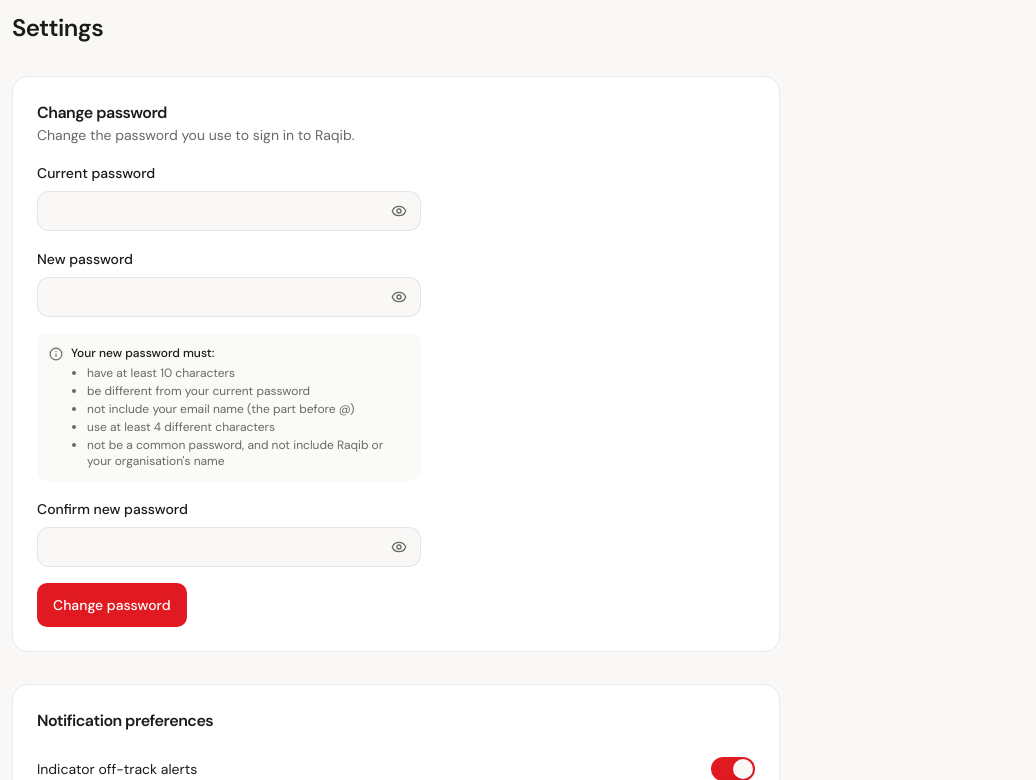
it: Settings: change password (every role) › shows a wrong current password on that field
In the password field labelled "Current password": (229, 211) top-left (37, 191), bottom-right (421, 231), type "not-it"
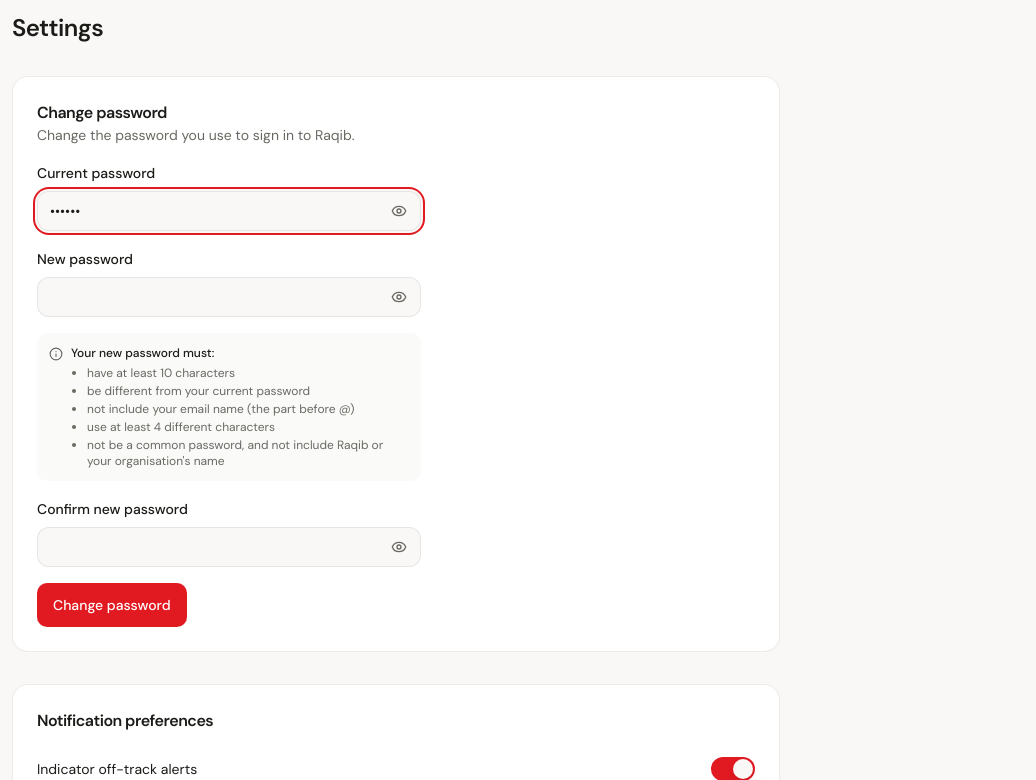
In the password field labelled "New password": (229, 297) top-left (37, 277), bottom-right (421, 317), type "olive-grove-2026"
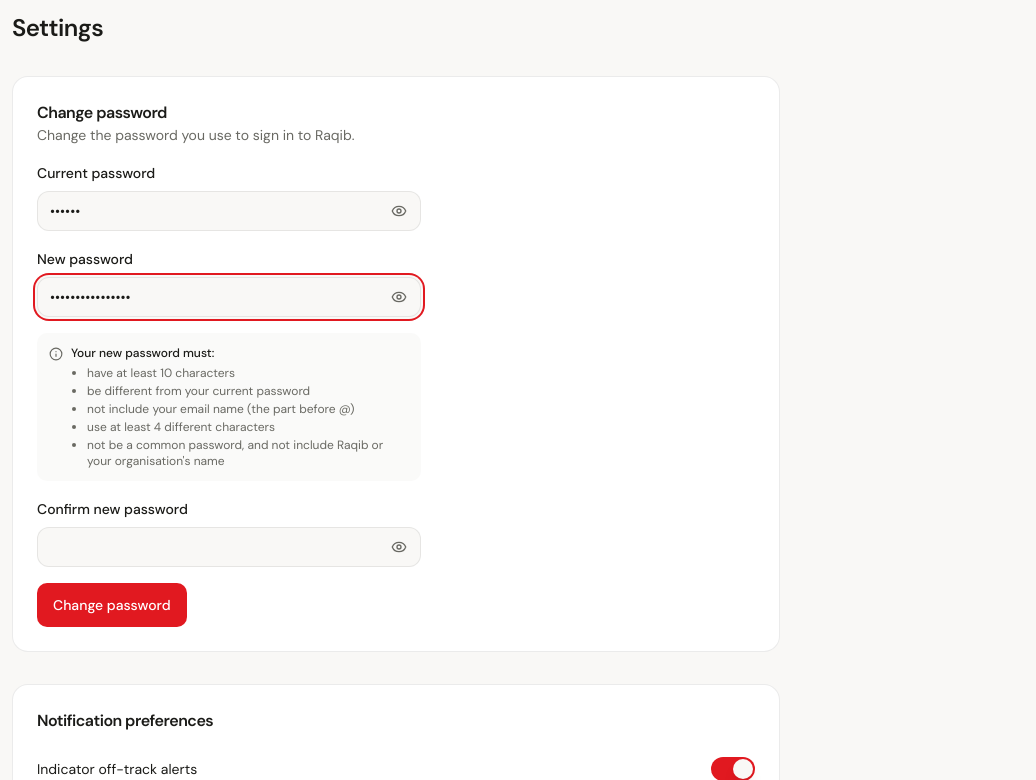
In the password field labelled "Confirm new password": (229, 547) top-left (37, 527), bottom-right (421, 567), type "olive-grove-2026"
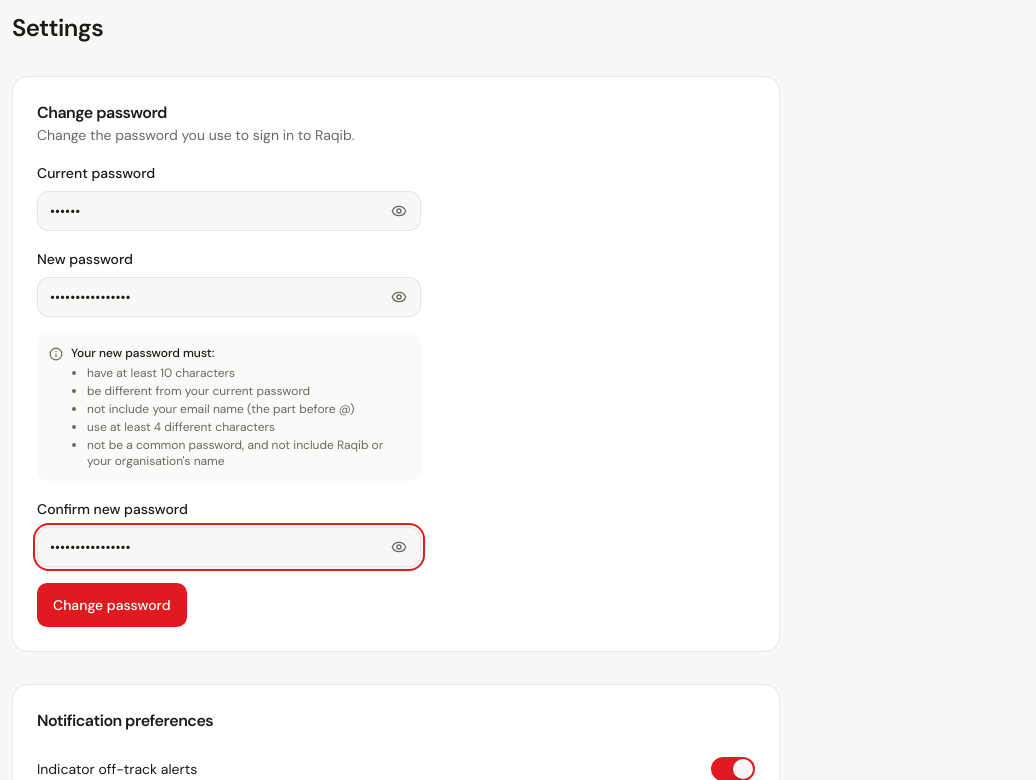
Click the button "Change password": (112, 605) top-left (37, 583), bottom-right (187, 627)
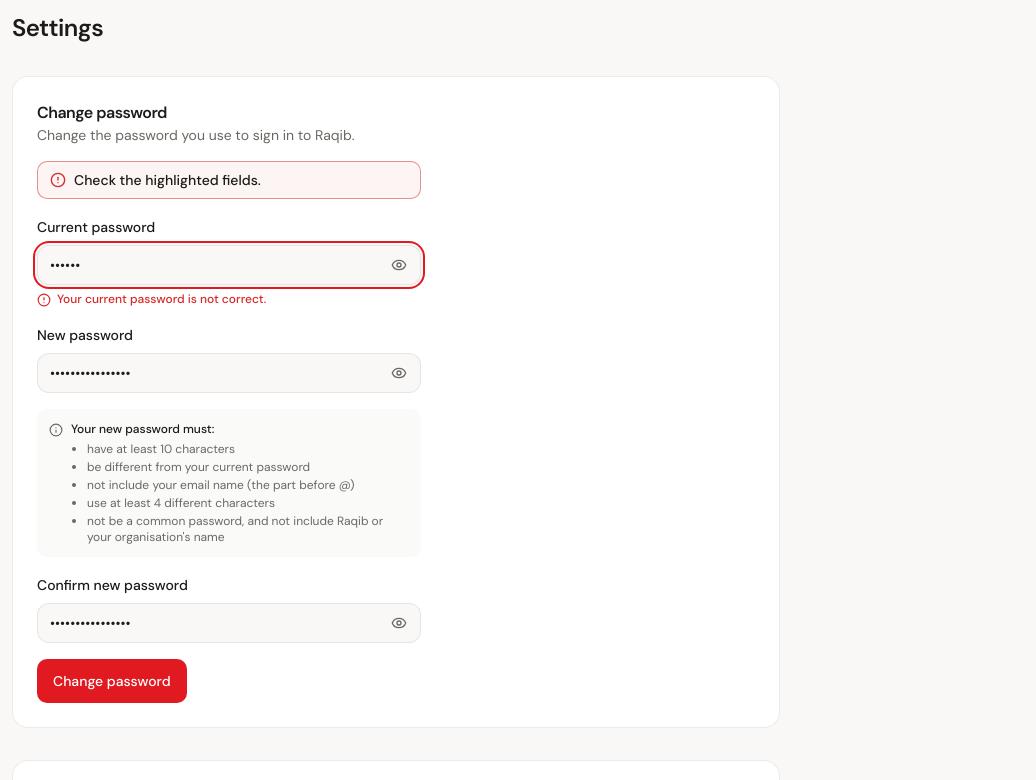
Expected: the text "Your current password is not correct." is shown, top-left (37, 291), bottom-right (266, 307)
